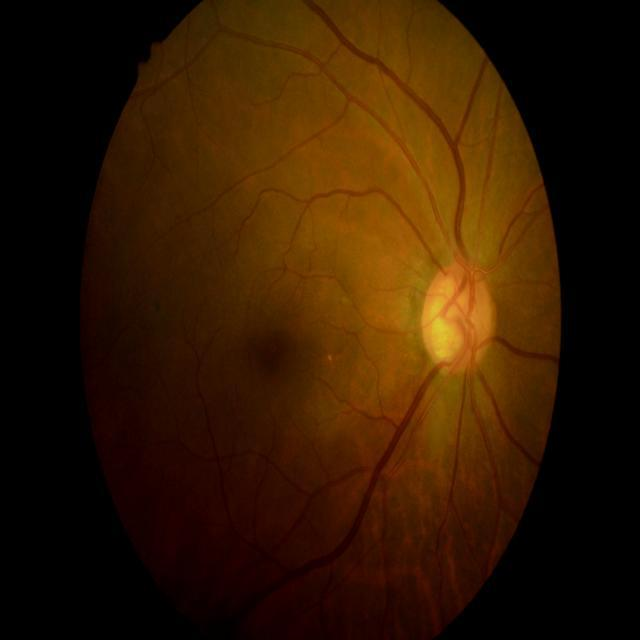cup: (432, 274, 477, 361)
disk: (422, 263, 495, 373)
